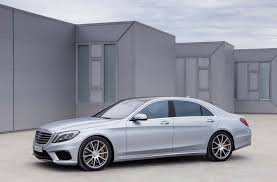car: (26, 93, 251, 171)
